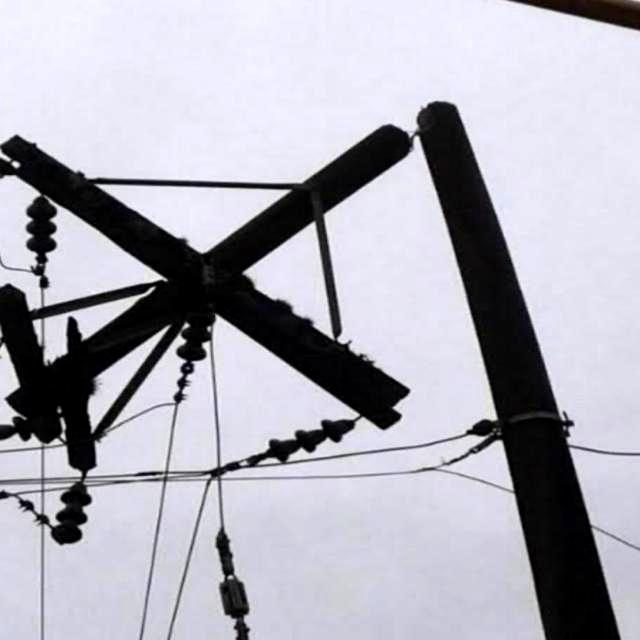Broken Pole: (2, 100, 629, 639)
